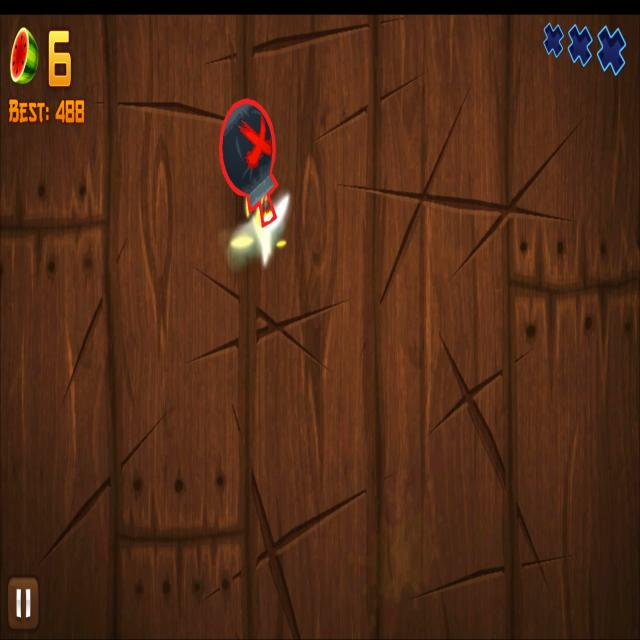bomb: (219, 98, 279, 229)
